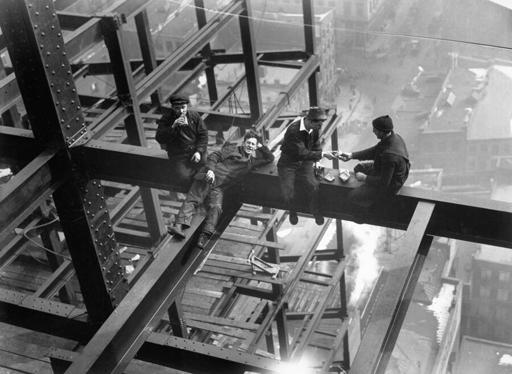unsafe person: (280, 105, 340, 239), (345, 114, 416, 220), (152, 93, 209, 168), (217, 131, 276, 193)
